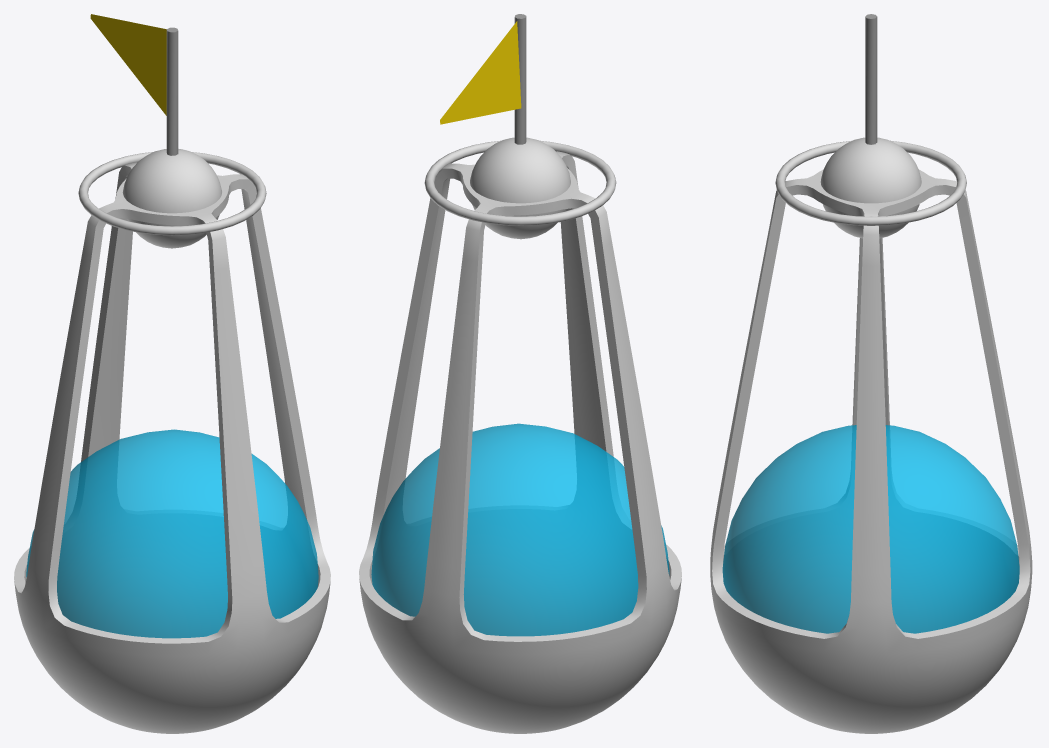
File: Buoy.glb
The picture shows the model from 3 angles, left to right: view 1: azimuth 30°, elevation 25°; view 2: azimuth 150°, elevation 25°; view 3: azimuth 270°, elevation 25°; orthographic projection.
Visible parts, largest first — view 1: Frame, Qubit, Flag, Flagpole; view 2: Frame, Qubit, Flag, Flagpole; view 3: Frame, Qubit, Flagpole.
Boxes of the visible parts, box(x1,y1,x2,y2) form: Frame: box(14, 149, 330, 733); Qubit: box(26, 429, 318, 638); Flag: box(90, 14, 166, 115); Flagpole: box(166, 27, 178, 155); Frame: box(359, 137, 681, 733); Qubit: box(371, 423, 669, 636); Flag: box(440, 21, 521, 124); Flagpole: box(514, 14, 526, 144); Frame: box(710, 137, 1032, 733); Qubit: box(722, 425, 1019, 633); Flagpole: box(865, 14, 877, 144).
Bounding box in the file's own units: 47.71 × 115 × 48.09.
